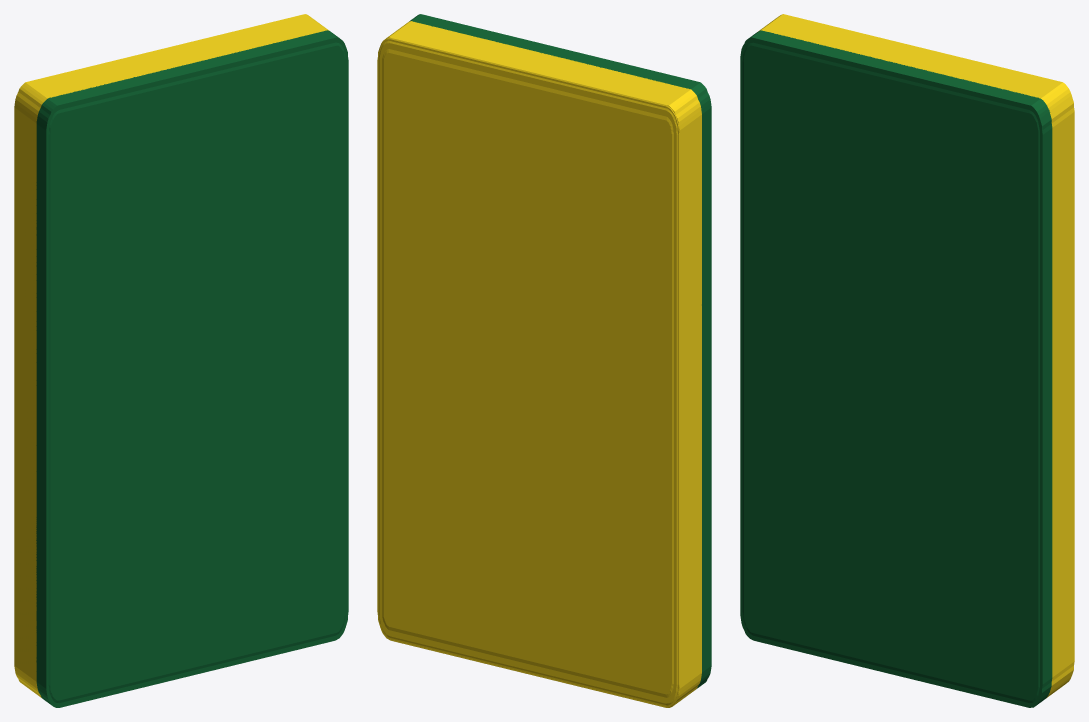
File: sponge.obj
3 views of the same model, side by side, from view 1: azimuth 30°, elevation 25°; view 2: azimuth 150°, elevation 25°; view 3: azimuth 330°, elevation 25° (orthographic).
Parts seen in each view (by area): view 1: obj_1, obj_0; view 2: obj_0, obj_1; view 3: obj_1, obj_0.
Boxes of the visible parts, x1,y1,x2,y2 form: obj_1: (36,30,348,707); obj_0: (14,14,329,697); obj_0: (377,21,701,707); obj_1: (409,14,711,688); obj_1: (740,30,1052,707); obj_0: (758,14,1074,698).
Bounding box in the file's own units: 0.0525 × 0.1 × 0.01.
